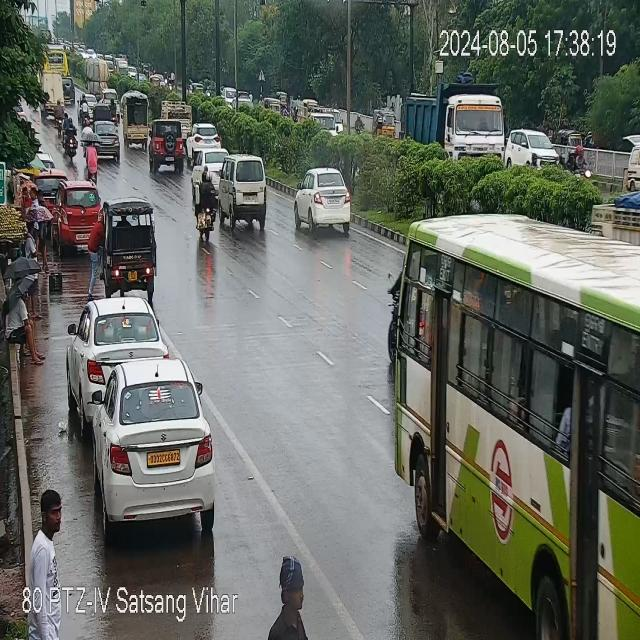2-wheelers: (194, 176, 219, 242), (60, 116, 80, 159), (572, 144, 591, 181), (84, 138, 98, 185), (42, 95, 62, 121), (51, 100, 65, 126), (81, 91, 90, 120), (355, 112, 363, 134)
auto: (103, 199, 159, 289), (121, 93, 152, 144), (374, 107, 396, 139), (95, 100, 120, 122), (558, 126, 582, 145), (98, 90, 120, 107), (264, 96, 280, 112)
bus: (387, 231, 634, 619)
car: (78, 357, 220, 534), (70, 295, 163, 409), (218, 149, 271, 235), (297, 172, 357, 239), (56, 187, 101, 248), (508, 128, 566, 168), (148, 119, 186, 171), (35, 149, 67, 197), (85, 122, 122, 156), (193, 150, 232, 180), (191, 124, 225, 148), (64, 74, 76, 107), (222, 83, 233, 106)
pedestrian: (30, 492, 69, 592), (264, 560, 316, 634), (5, 281, 45, 363), (24, 218, 42, 312), (89, 217, 101, 285), (21, 187, 44, 210)
truck: (404, 67, 505, 165), (296, 102, 337, 136), (43, 74, 69, 112), (158, 98, 194, 121)
